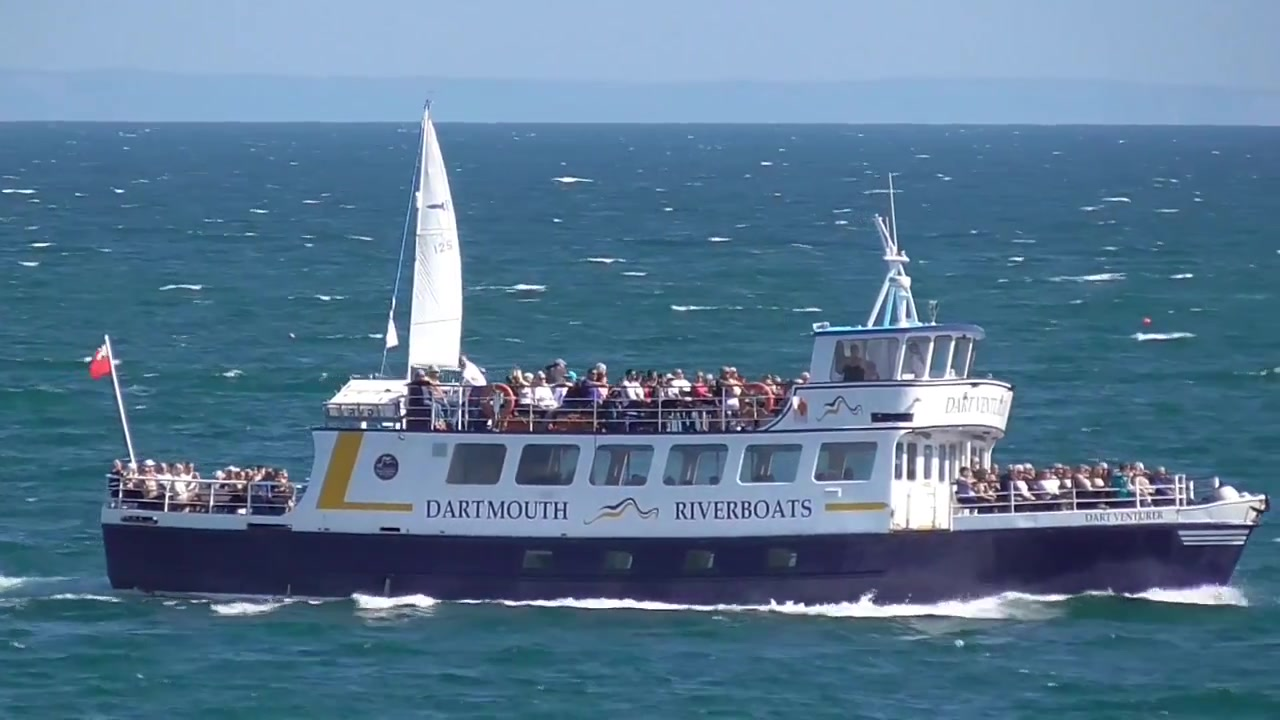CommonShip: (80, 307, 1261, 611)
